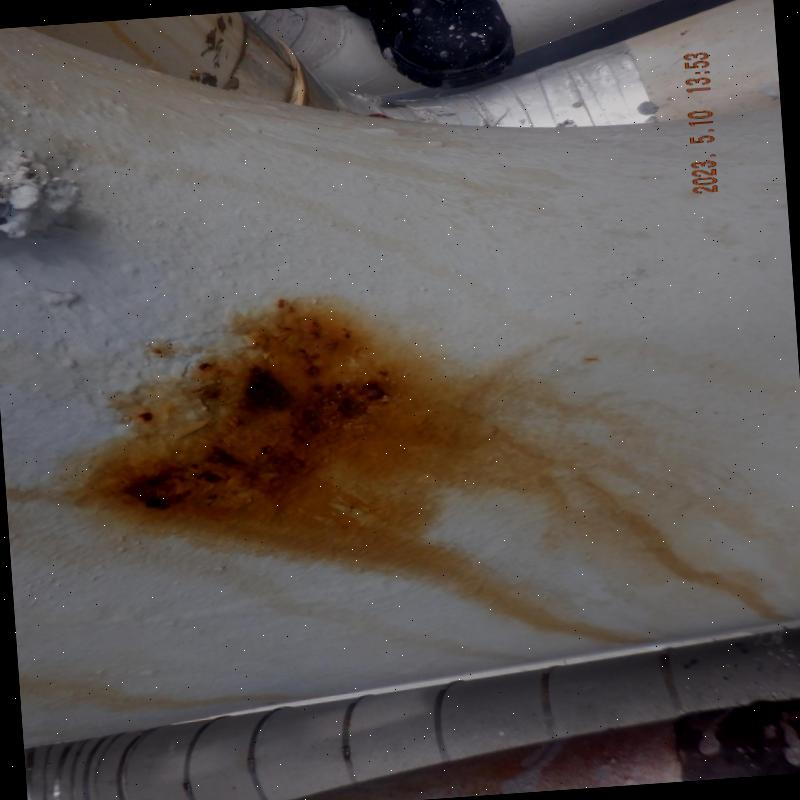corrosion: (128, 365, 412, 508)
